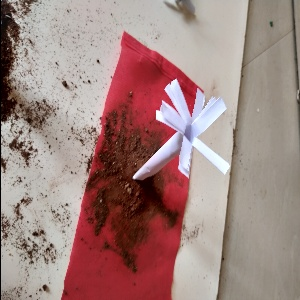weed: (128, 71, 240, 193)
